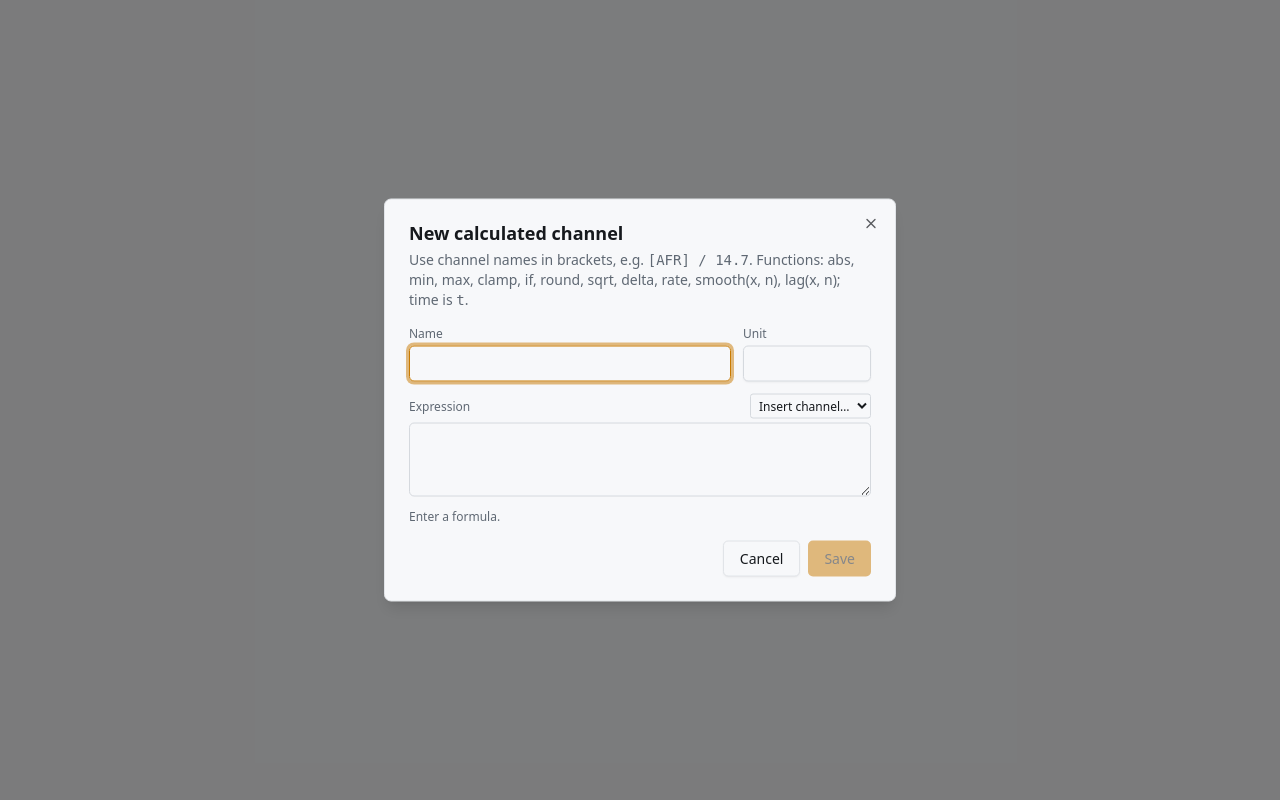
Insert channel adds a bracketed reference
Type "2 * " into the text box named "Expression" at (640, 460), box left=409, top=422, right=871, bottom=496
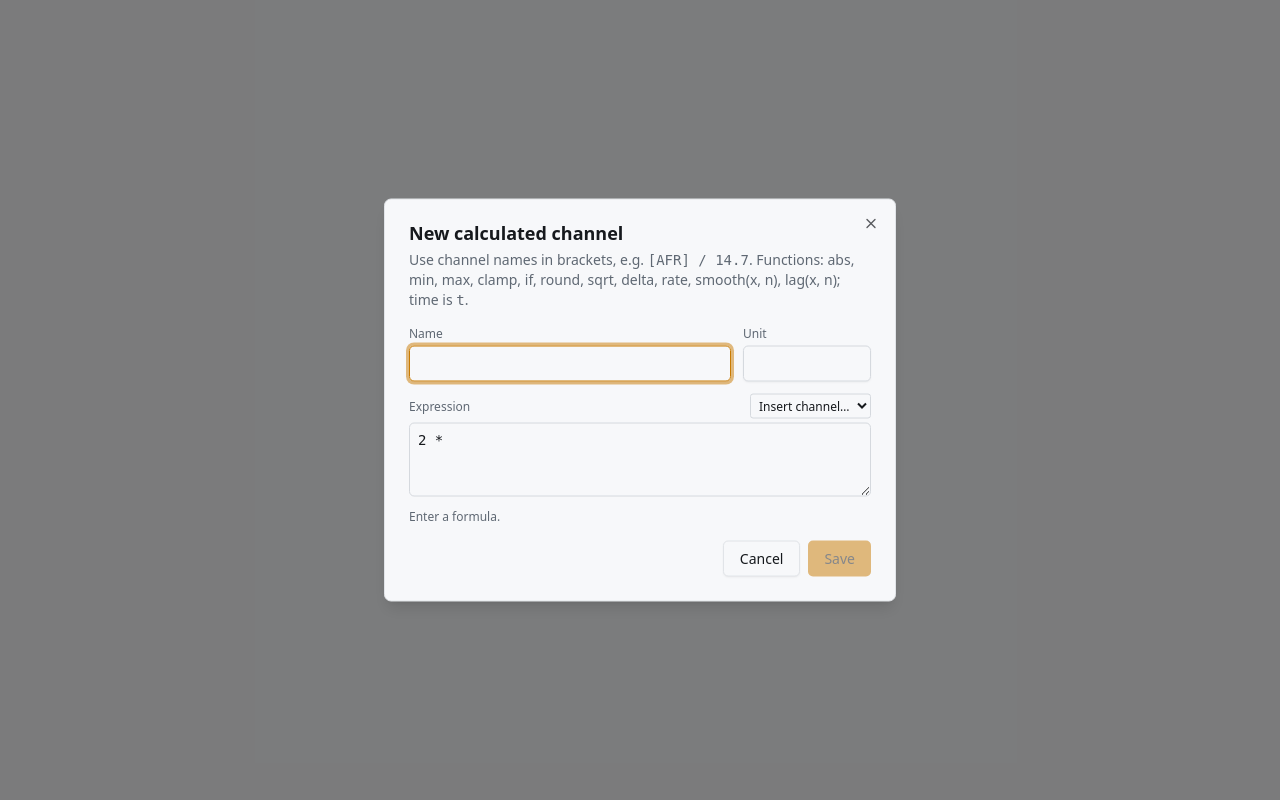
Select "AFR" in the dropdown named "Insert channel" at (810, 406), box left=750, top=394, right=871, bottom=418
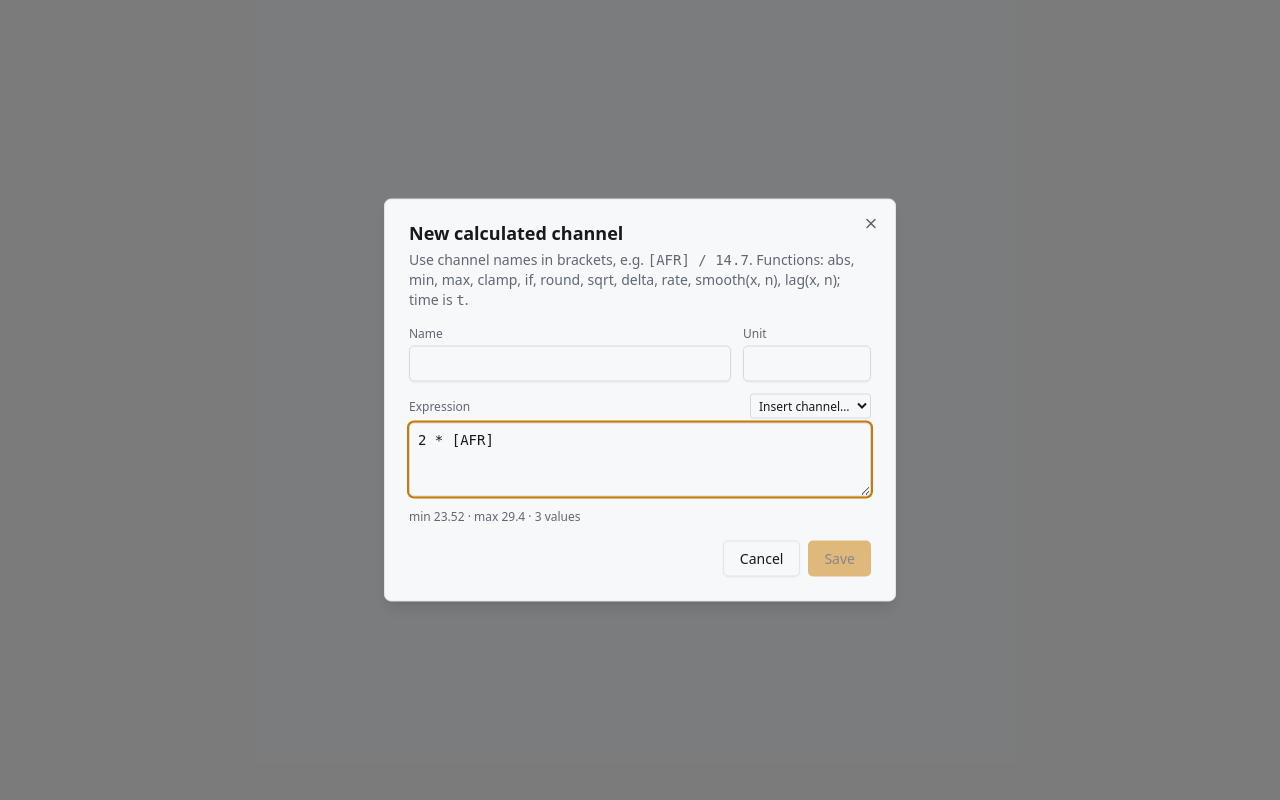
Expected: the text box named "Expression" holds "2 * [AFR]", left=409, top=422, right=871, bottom=496
